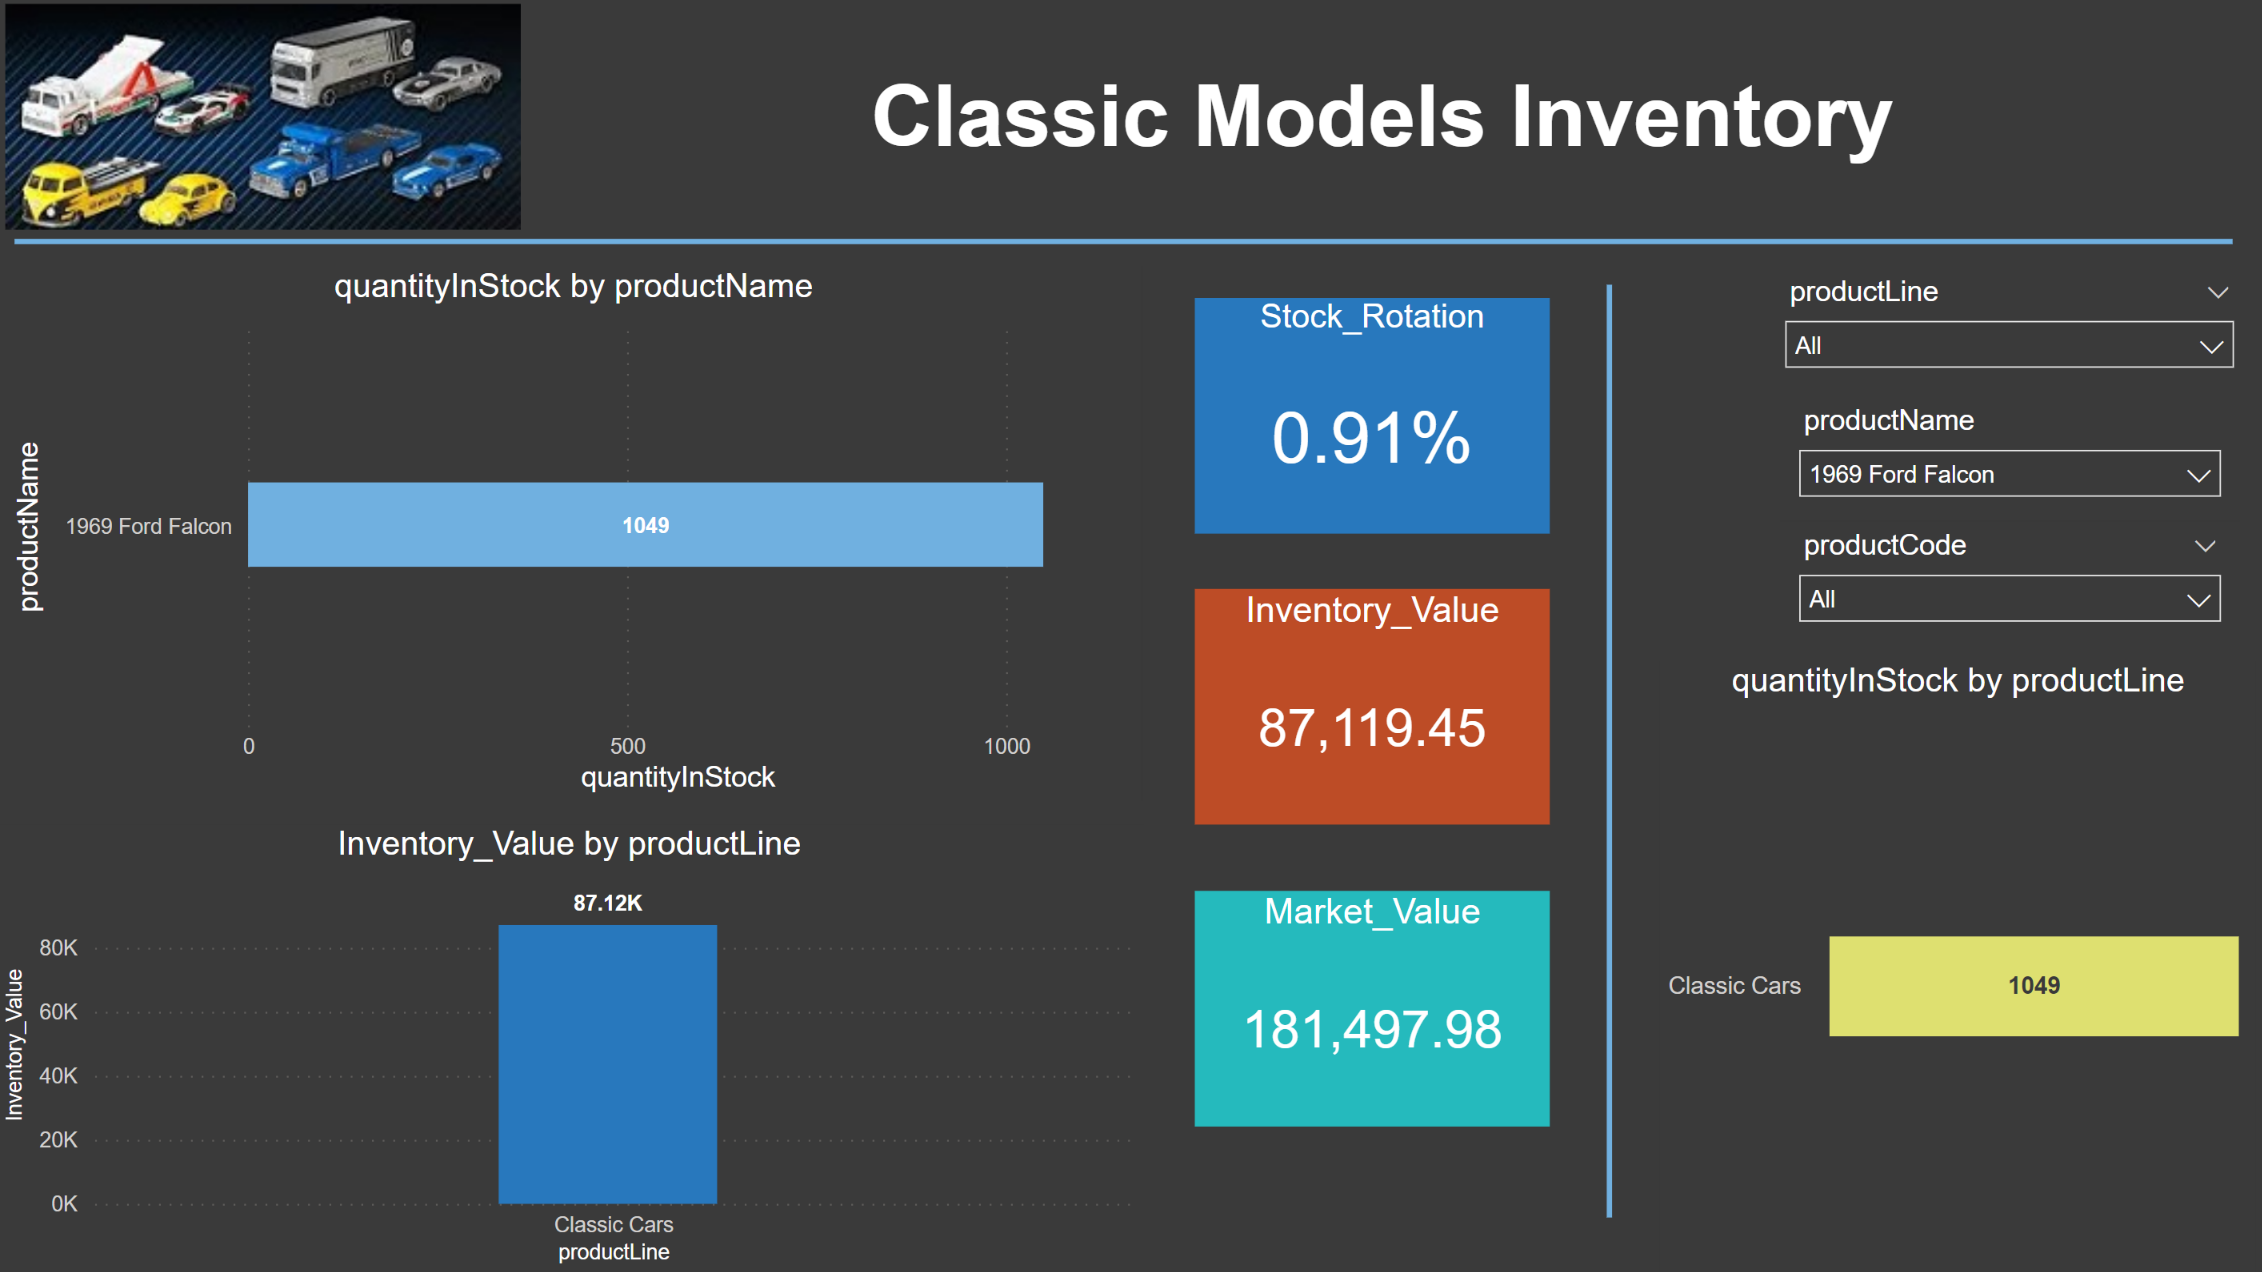

The dashboard page shown, as its layout file describes it:
{"tool":"powerbi","page":{"name":"Scenario1","canvas":[1280,720],"ordinal":0},"visuals":[{"type":"textbox","box":[306.3,36.6,948.2,88.3],"z":0},{"type":"image","box":[0,0,300.4,137.4],"z":1000},{"type":"funnel","fields":{"Y":["Sum(Products.quantityInStock)"],"Category":["Products.productLine"]},"box":[937.1,376.3,336.4,343.6],"z":2000},{"type":"basicShape","box":[0,125,1269.5,28.8],"z":3000},{"type":"basicShape","box":[884.7,153.8,47.8,545.8],"z":4000},{"type":"clusteredColumnChart","fields":{"Y":["Sum(Products.Value_Buy_Price)"],"Category":["Products.productLine"]},"box":[0,467.9,645.2,251.9],"z":5000},{"type":"slicer","fields":{"Values":["Products.productName"]},"box":[1005.3,226.6,258.2,63.2],"z":6000},{"type":"clusteredBarChart","fields":{"Category":["Products.productName"],"Y":["Sum(Products.quantityInStock)"]},"box":[5.2,153.8,640,301],"z":7000},{"type":"slicer","fields":{"Values":["Products.productLine"]},"box":[997.1,153.8,273.3,63.2],"z":8000},{"type":"card","title":"Stock_Rotation","fields":{"Values":["Sum(Stock_Rotation.Stock_Rotation)"]},"box":[674.7,171.5,200.2,132.8],"z":9000},{"type":"card","title":"Inventory_Value","fields":{"Values":["Sum(Products.Value_Buy_Price)"]},"box":[674.7,335.1,200.2,132.8],"z":10000},{"type":"card","title":"Market_Value","fields":{"Values":["Sum(Products.Value_MSRP)"]},"box":[674.7,505.2,200.2,132.8],"z":11000},{"type":"slicer","fields":{"Values":["Products.productCode"]},"box":[1005.3,296.7,258.2,63.2],"z":12000}]}

Visuals, with their boxes in screenshot pixels (x1, y1, x2, y2), scaled from the page's 1280x720 canvas onto the 2262x1272 screenshot:
textbox: 541, 65, 2217, 221
image: 0, 0, 531, 243
funnel - Sum(Products.quantityInStock) x Products.productLine: 1656, 665, 2251, 1271
basicShape: 0, 221, 2243, 272
basicShape: 1563, 272, 1648, 1236
clusteredColumnChart - Sum(Products.Value_Buy_Price) x Products.productLine: 0, 827, 1140, 1271
slicer - Products.productName: 1777, 400, 2233, 512
clusteredBarChart - Products.productName x Sum(Products.quantityInStock): 9, 272, 1140, 803
slicer - Products.productLine: 1762, 272, 2245, 383
"Stock_Rotation" card: 1192, 303, 1546, 538
"Inventory_Value" card: 1192, 592, 1546, 827
"Market_Value" card: 1192, 893, 1546, 1127
slicer - Products.productCode: 1777, 524, 2233, 636
